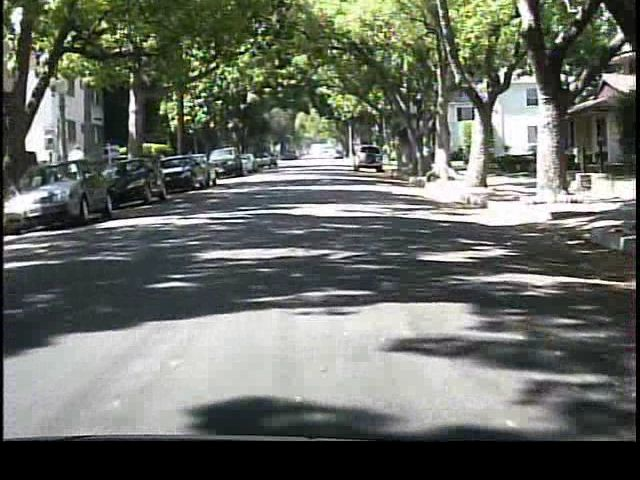person: (67, 142, 93, 198)
